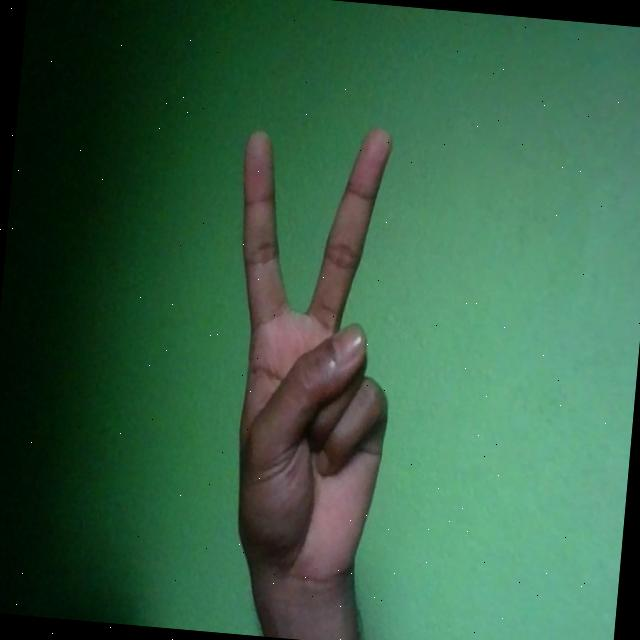Fist: (208, 117, 413, 596)
